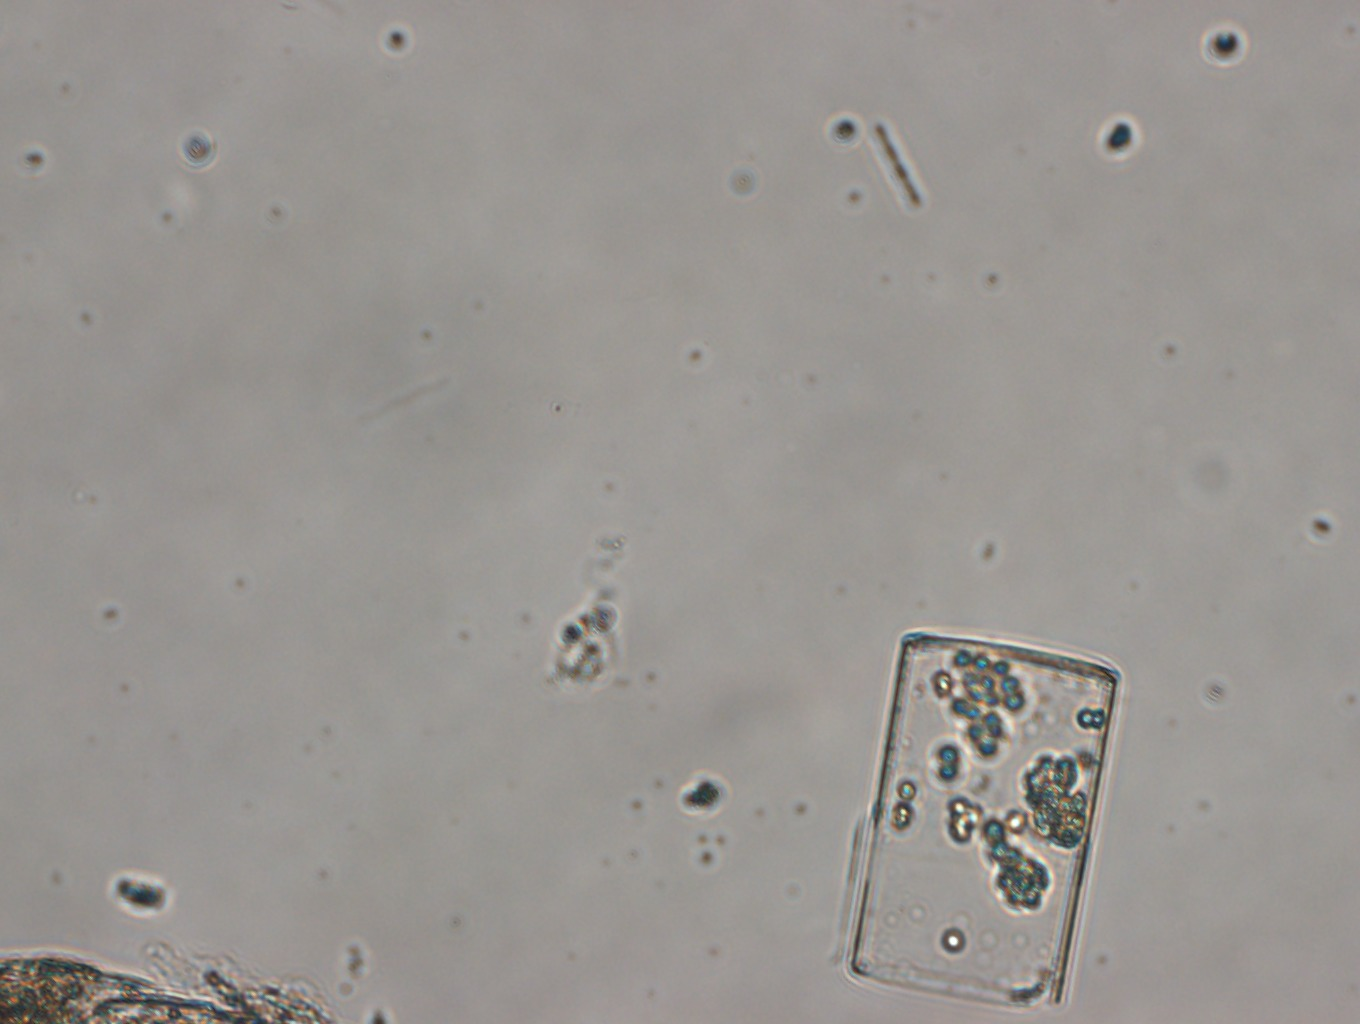guinardia flaccida: (845, 630, 1123, 1011)
